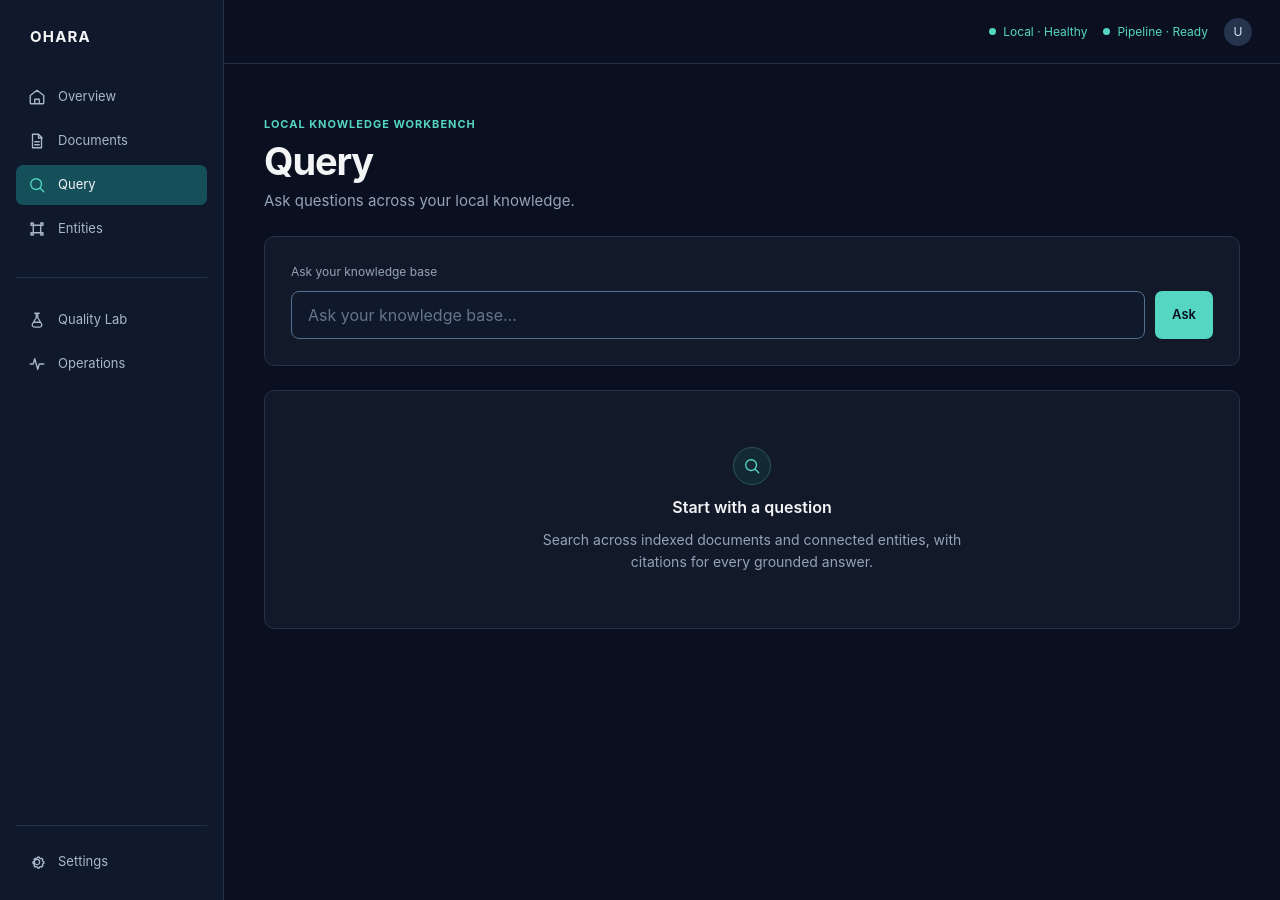
Scenario: App shell › shows the unavailable model state
Click the link "Query". click: (112,184)
box: top-left (16, 164), bottom-right (207, 204)
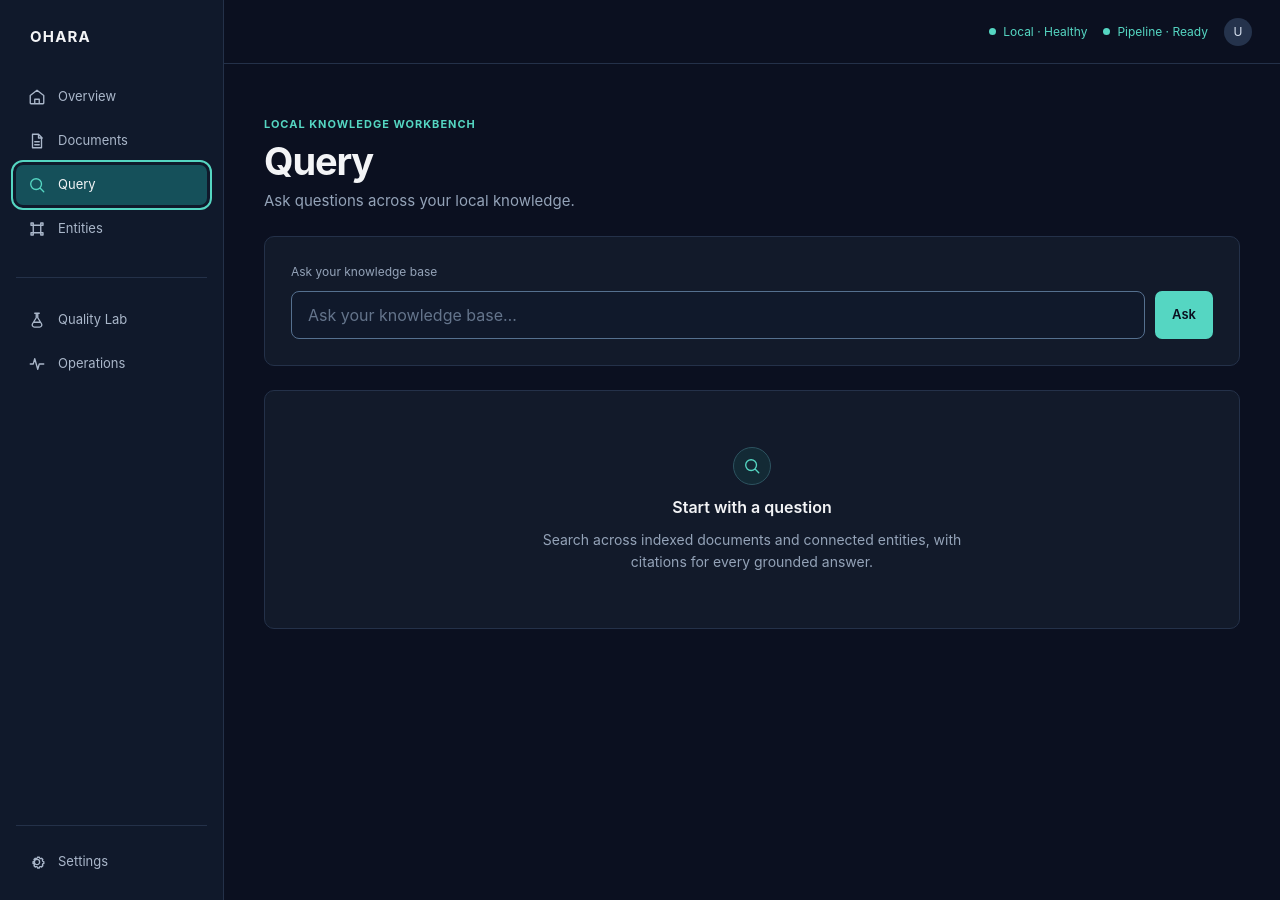
Type "Use the offline provider" into the field labelled "Ask your knowledge base". click: (718,315)
box: top-left (291, 291), bottom-right (1145, 339)
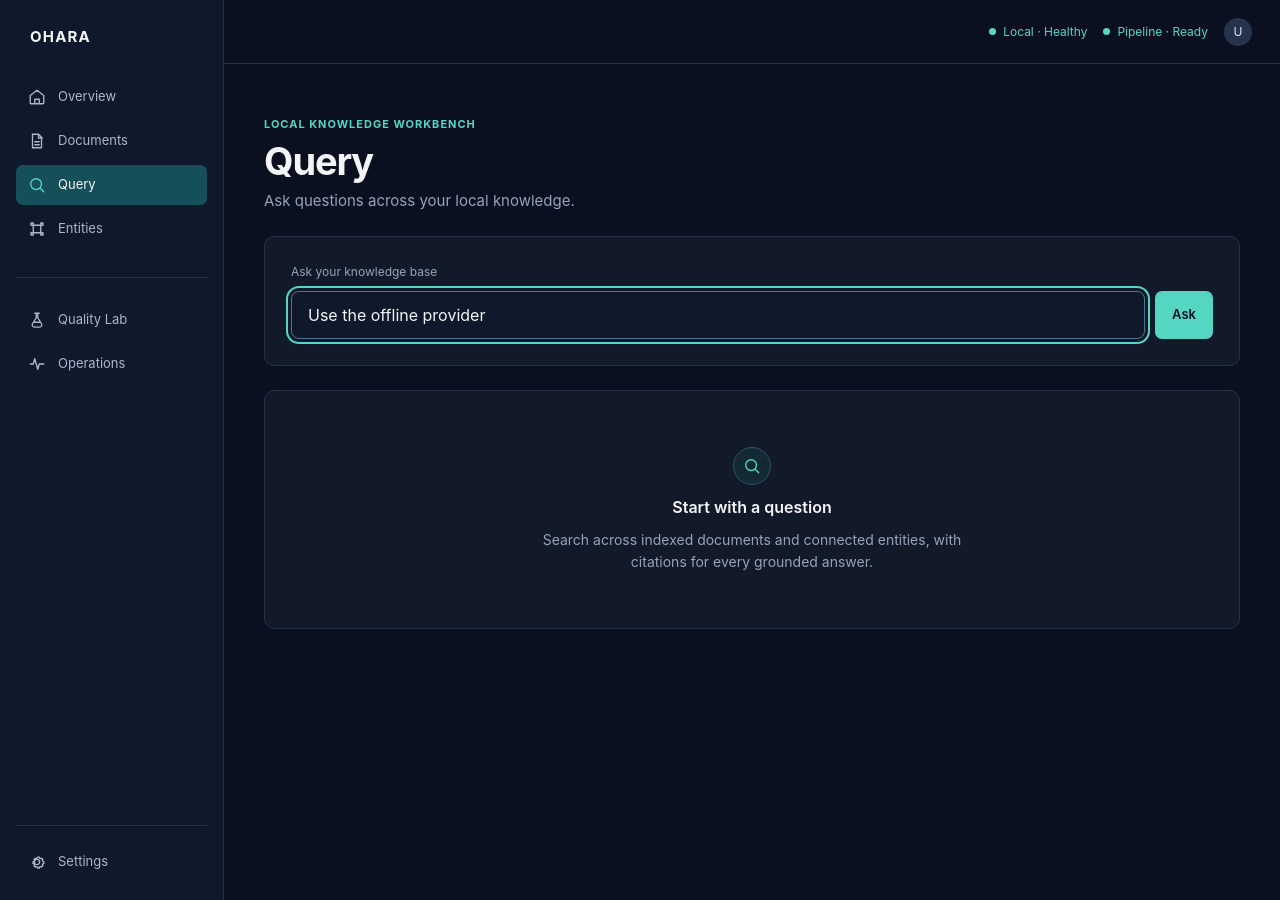
Click the button "Ask". click: (1184,315)
box: top-left (1155, 291), bottom-right (1213, 339)
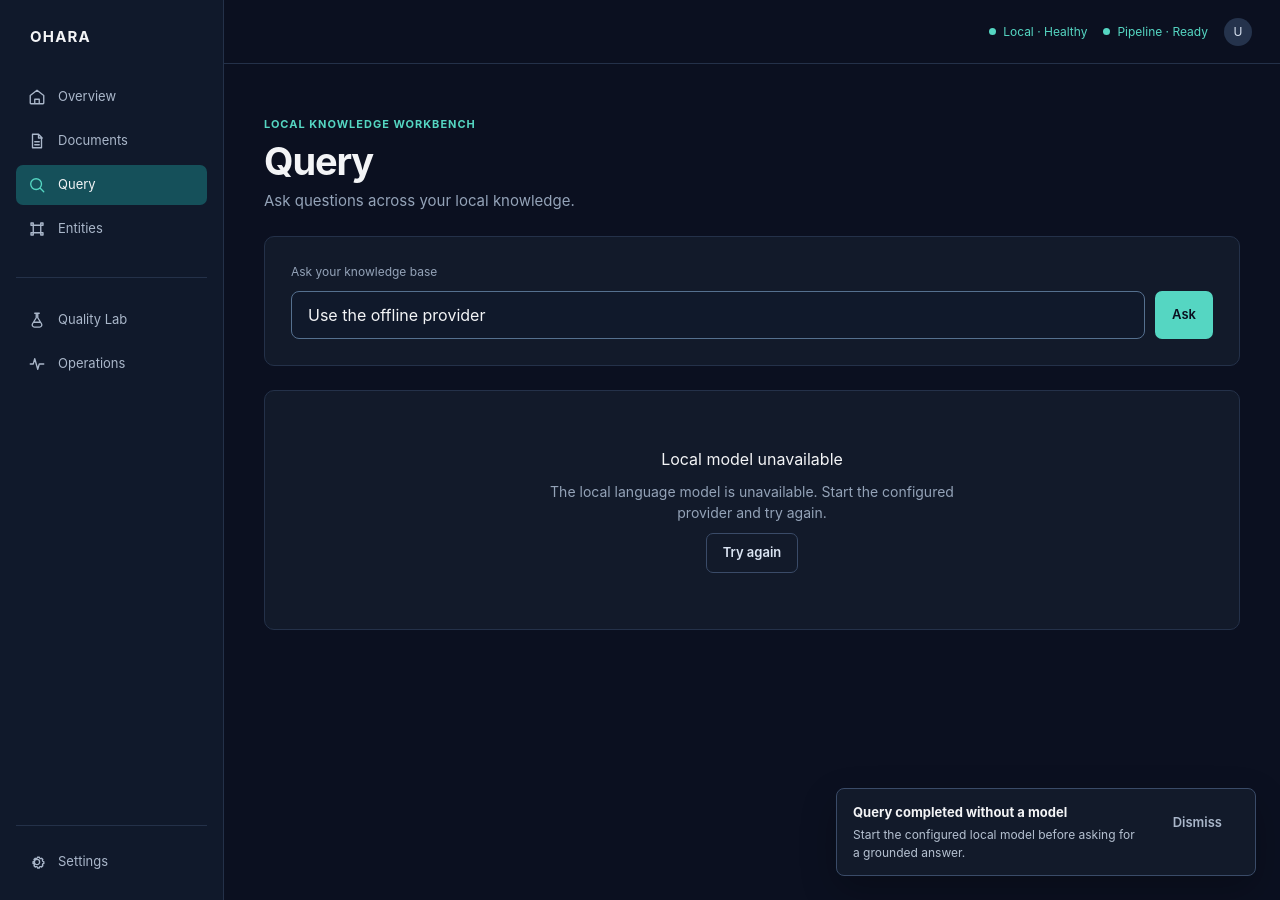
Expected: the heading "Local model unavailable" is shown, top-left (661, 447), bottom-right (843, 471)
